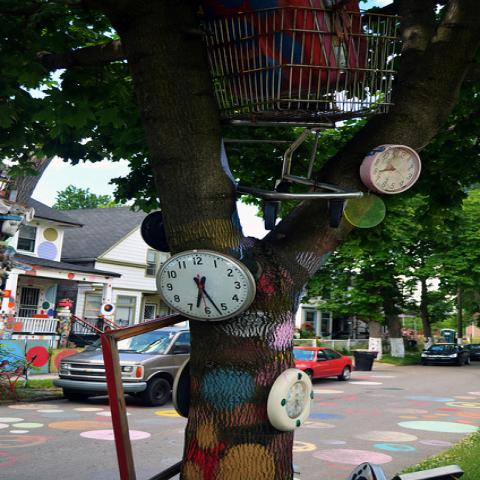car: (54, 326, 193, 406), (296, 346, 354, 380), (420, 341, 474, 367), (465, 343, 479, 361)
